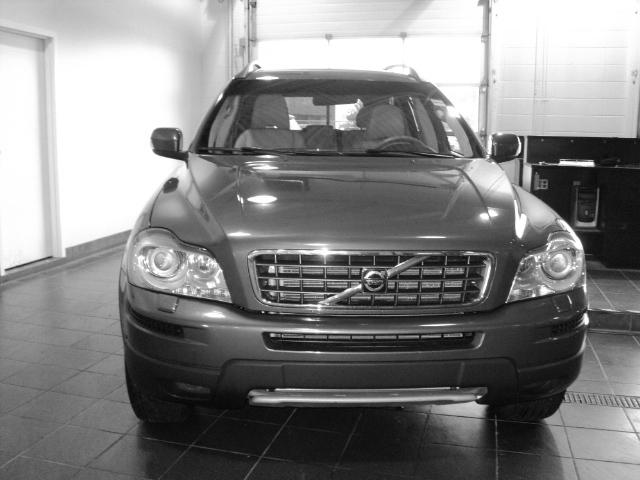car: (120, 66, 585, 425)
